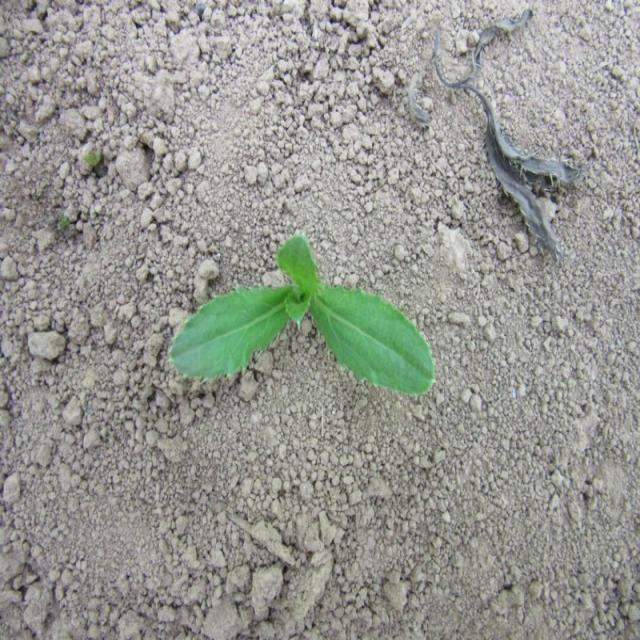field_thistle: (129, 209, 450, 433)
